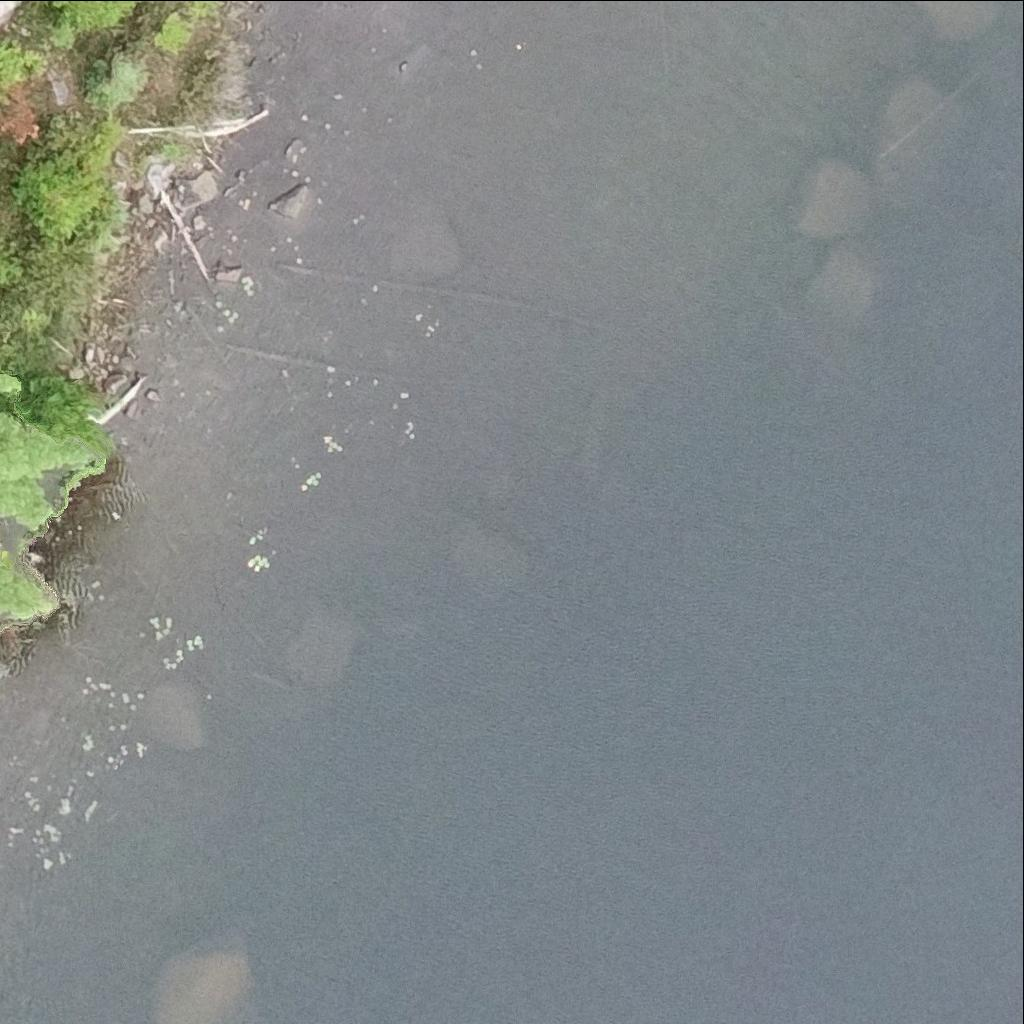crown: (0, 367, 94, 529), (36, 0, 139, 43), (0, 560, 49, 617)
